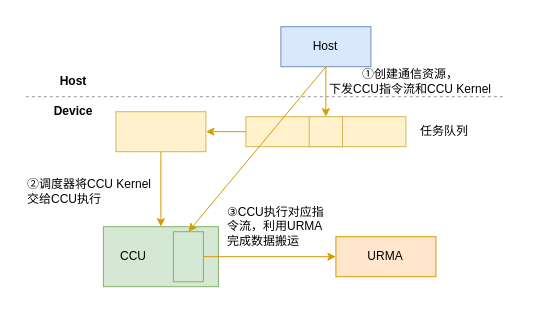
Image size: 534x315. Some labels were removed from this diagram. The shapes that lost their labels are listed below. From the top down, each one's centre as x and y in pixels, then its label:
At pixel 160 131: "调度器".
At pixel 187 256: "指 令 流".
